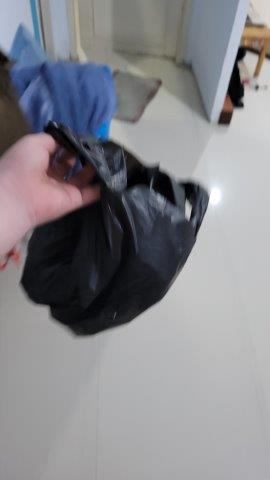plastik: (19, 119, 210, 346)
